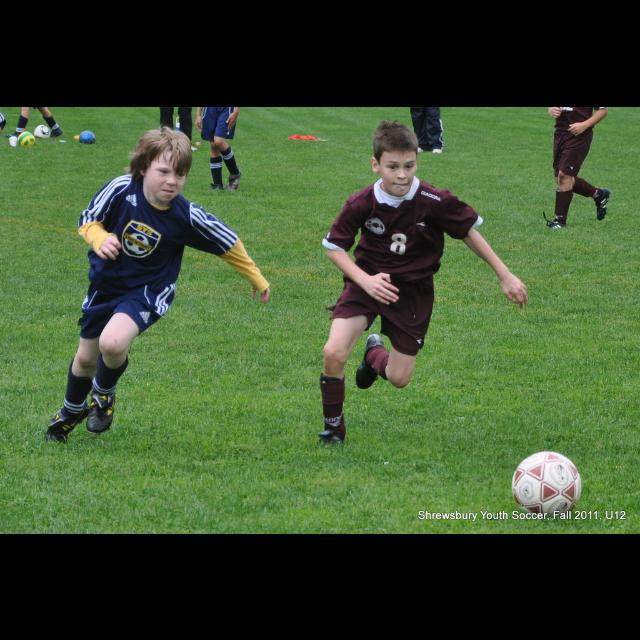Football: (509, 450, 579, 518)
